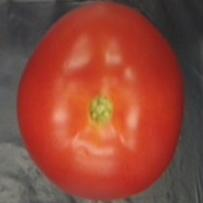unripe: (19, 0, 187, 203)
